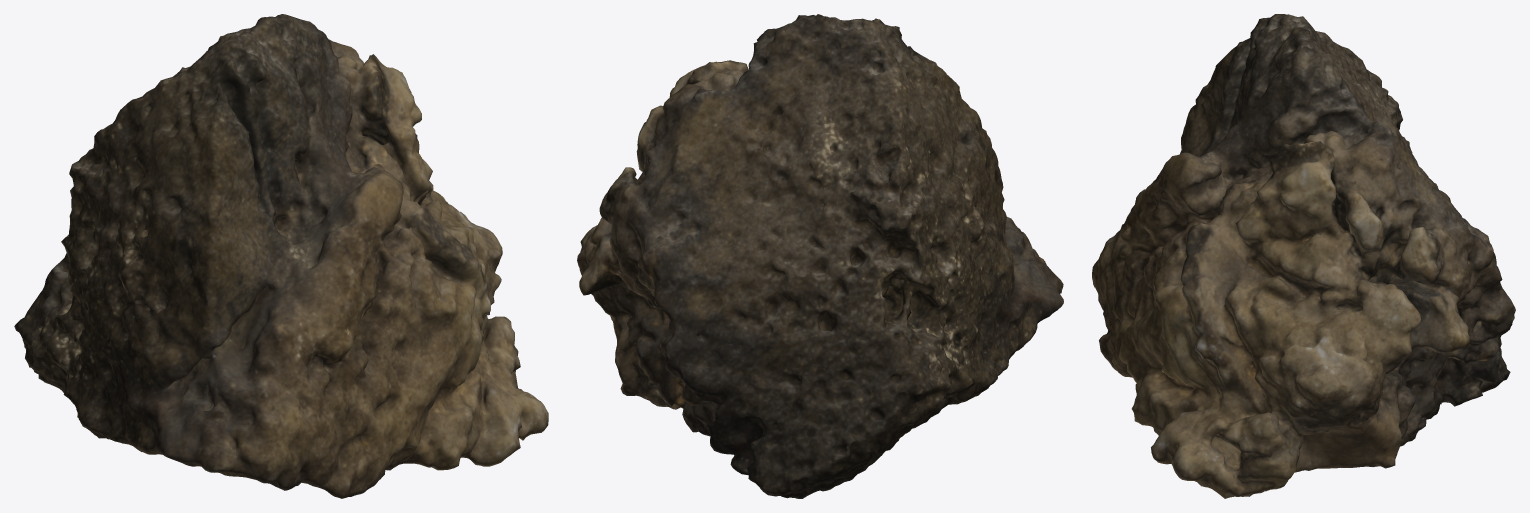
The model's file is paricutin_LOD1.glb.
The picture shows the model from 3 angles, left to right: view 1: azimuth 30°, elevation 25°; view 2: azimuth 150°, elevation 25°; view 3: azimuth 270°, elevation 25°; orthographic projection. The views are drawn at different scales.
Visible parts, largest first — view 1: PariRemeshLOD1; view 2: PariRemeshLOD1; view 3: PariRemeshLOD1.
Boxes of the visible parts, left/top/right/bottom form: PariRemeshLOD1: left=14, top=14, right=548, bottom=498; PariRemeshLOD1: left=577, top=14, right=1063, bottom=498; PariRemeshLOD1: left=1092, top=14, right=1515, bottom=498.
Bounding box in the file's own units: 0.7087 × 0.6998 × 0.6877.
1 material, 1 textured.
